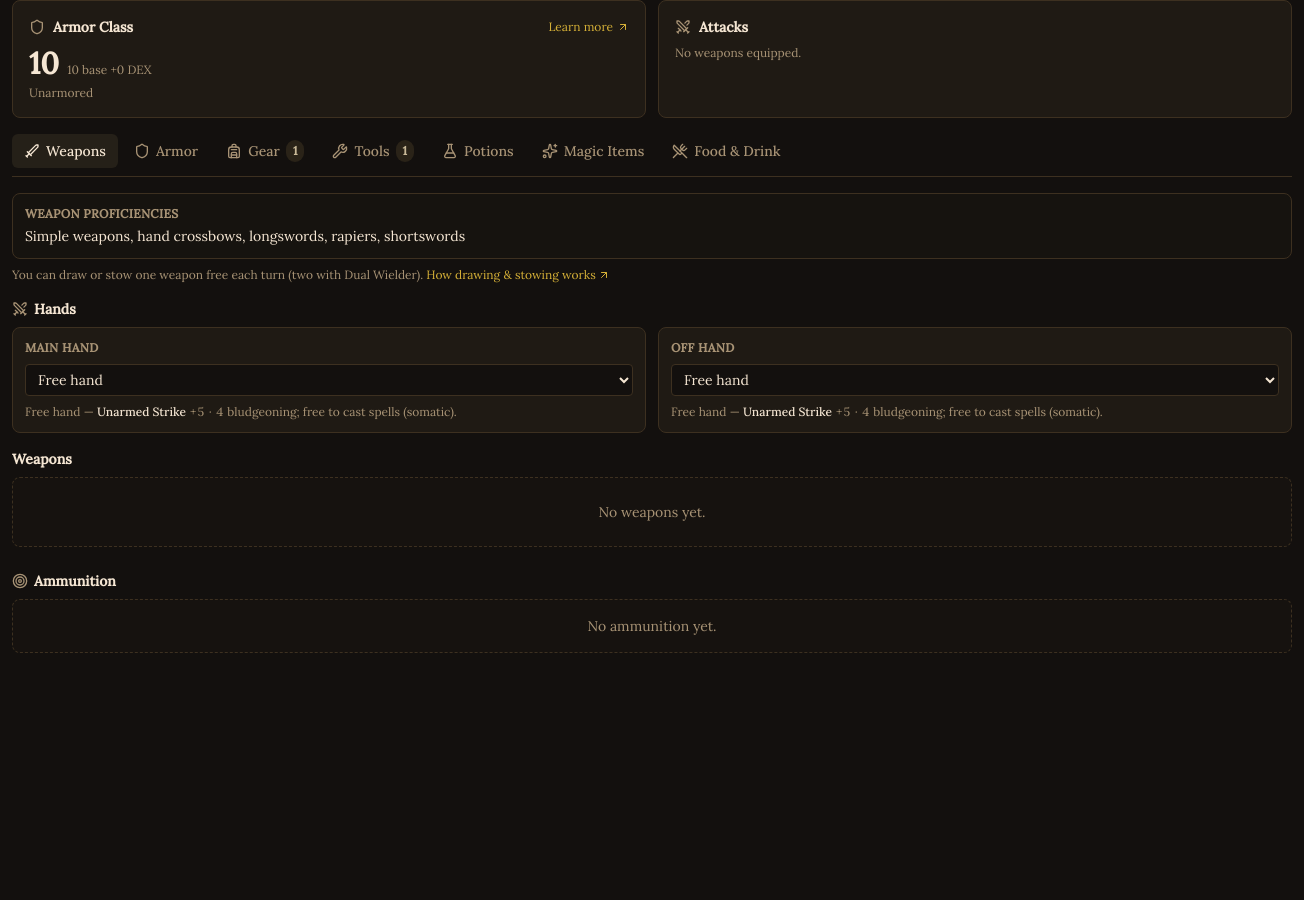
Test: InventoryTab › shows tool proficiencies and owned tools on the Tools tab; gear excludes tools
Click the button with test id "inv-category-tools". click: (373, 151)
box: [320,134,426,168]
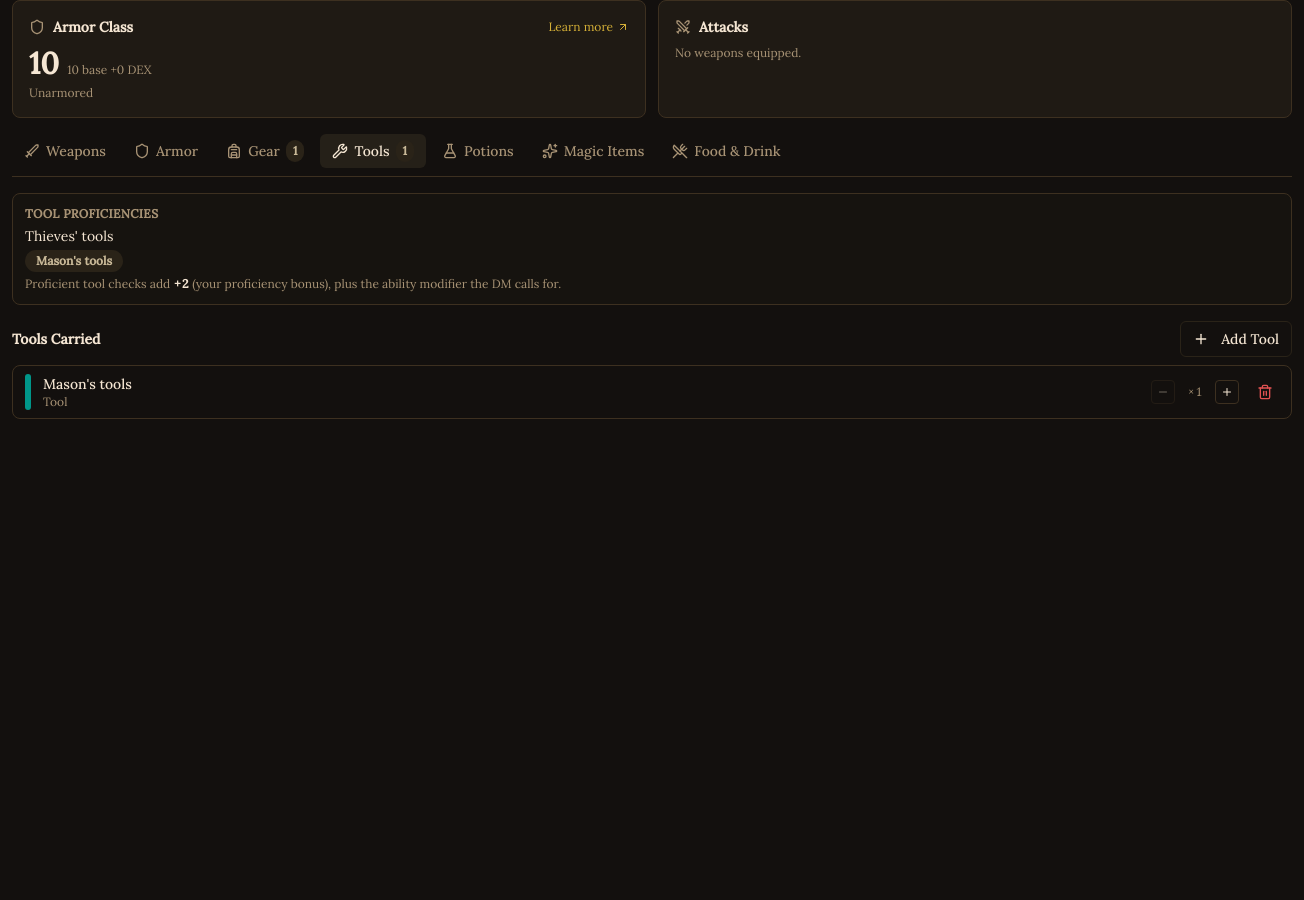
expect the element with test id "proficiency-banner" shows "Thieves": met, box [25,227,114,245]
expect the element with test id "proficiency-banner" shows "Mason's tools": met, box [36,253,112,268]
expect the element with test id "inv-row-t1" is shown: met, box [13,366,1291,418]
# the Gear tab shows the backpack, not the tool
Click the button with test id "inv-category-adventuring-gear". click: (265, 151)
box: [214,134,316,168]
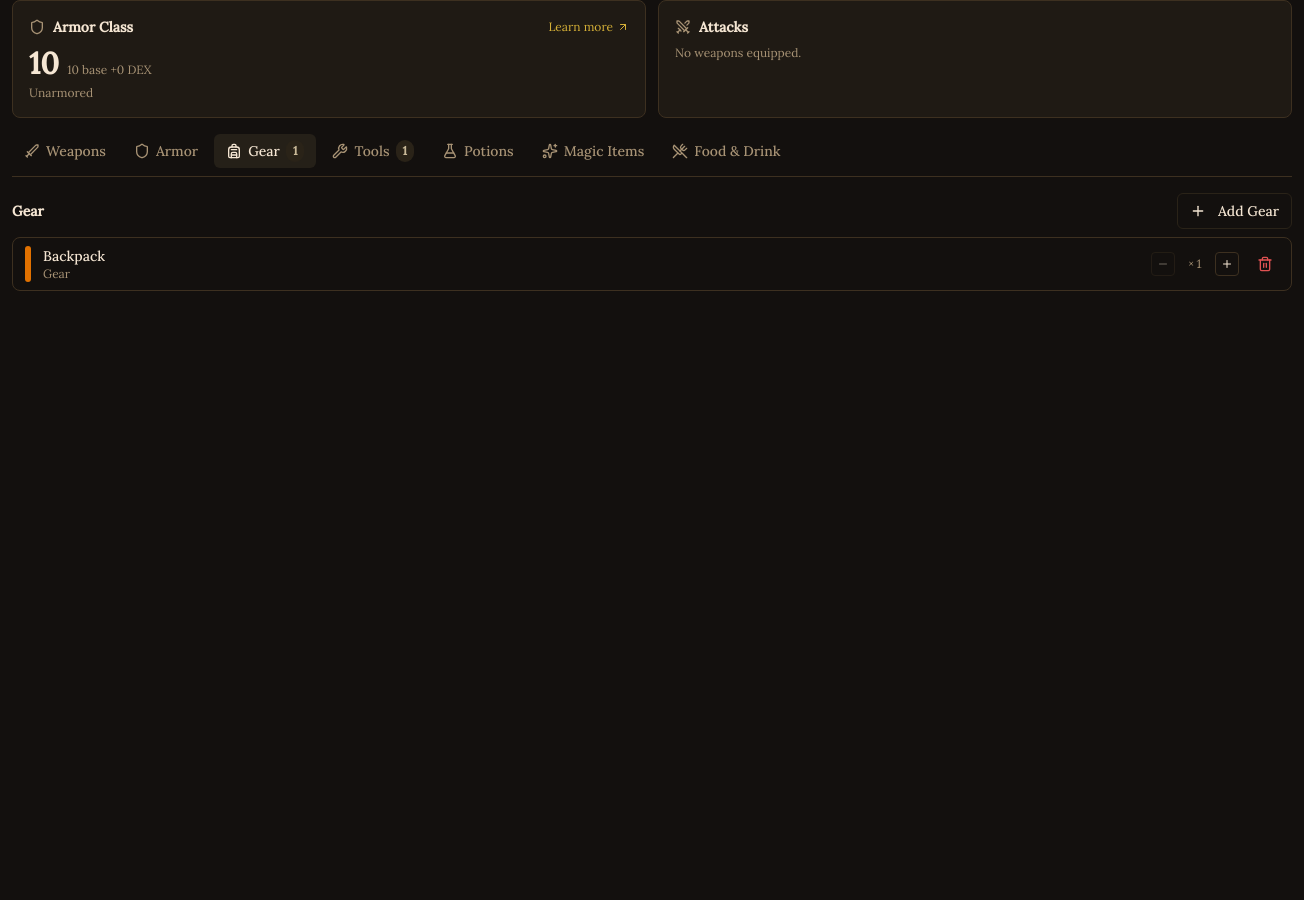
expect the element with test id "inv-row-g1" is shown: met, box [13,238,1291,290]
expect the element with test id "inv-row-t1" is gone: met
